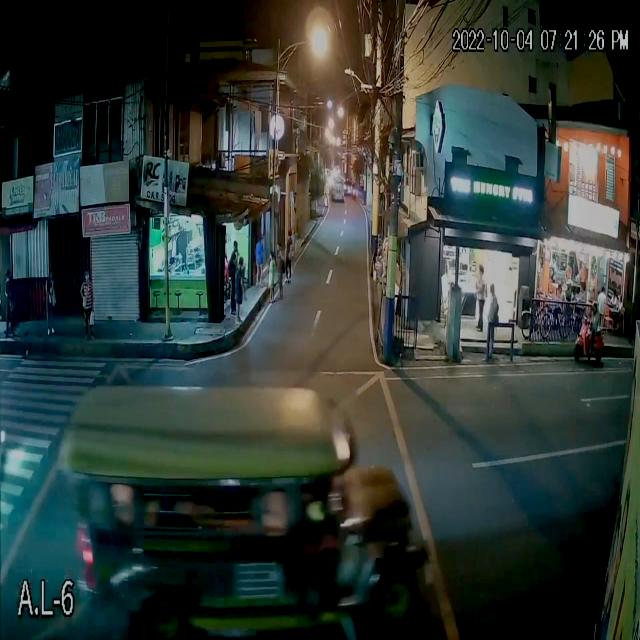Full-Faced: (589, 300, 598, 316)
